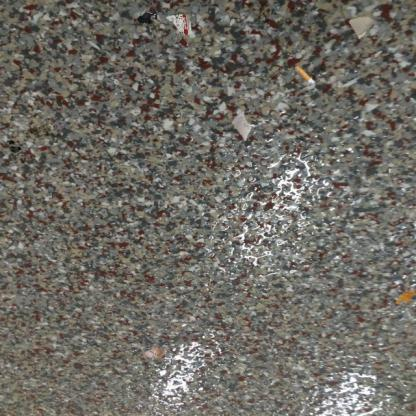dirty: (230, 109, 259, 141), (347, 14, 377, 39), (166, 13, 192, 38), (294, 64, 316, 88), (141, 344, 168, 363)
liquid: (136, 10, 158, 25), (396, 288, 416, 304)
